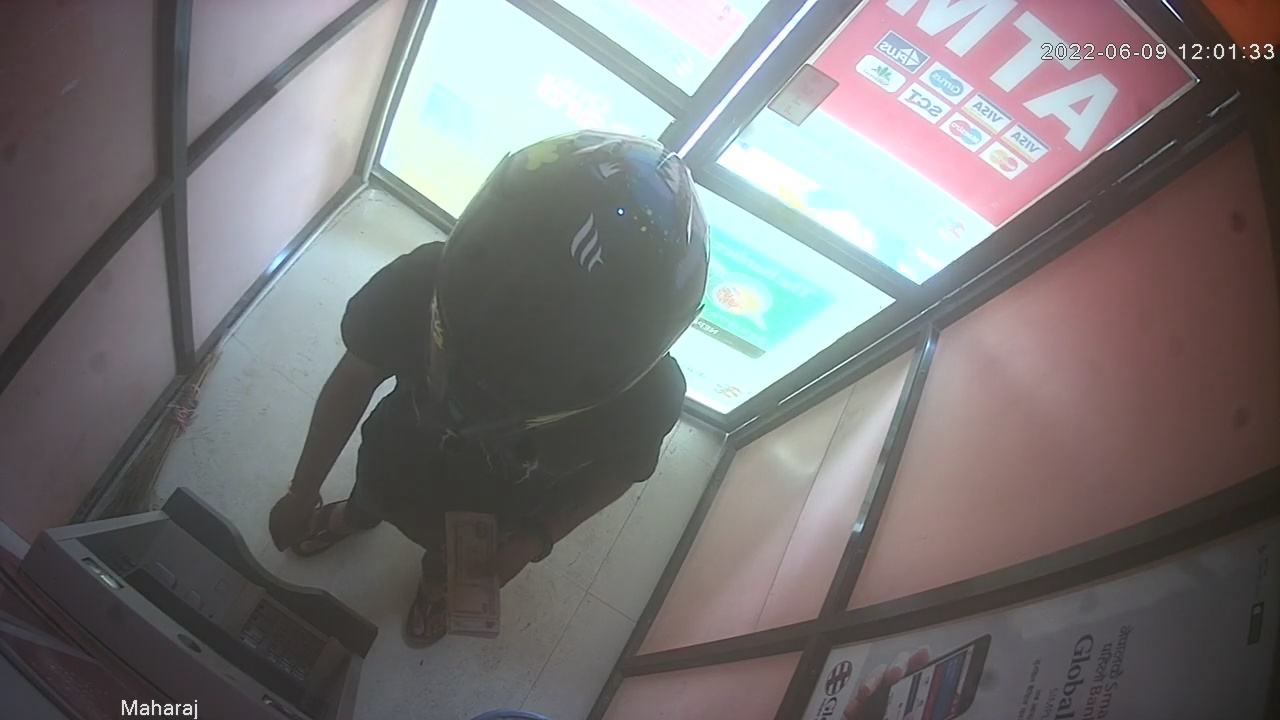helmet: (420, 131, 706, 441)
person: (267, 129, 710, 647)
